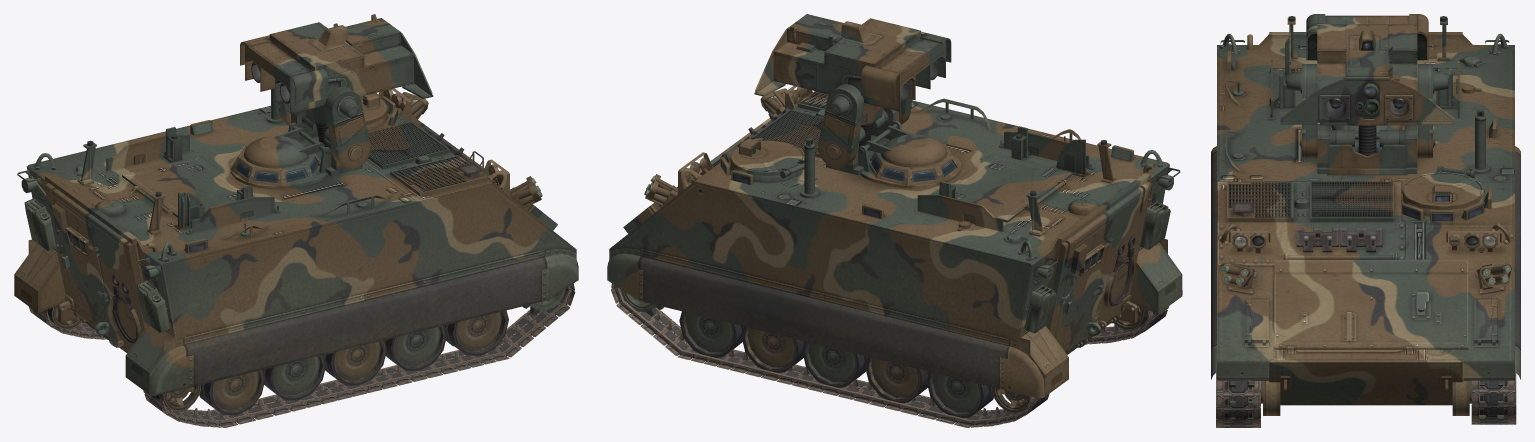
Rendered from m901_itv.glb.
3 views of the same model, side by side, from view 1: azimuth 30°, elevation 25°; view 2: azimuth 150°, elevation 25°; view 3: azimuth 270°, elevation 25° (orthographic). The views are drawn at different scales.
Parts seen in each view (by area): view 1: hull, skirt, mount2, track2, mount, things, extra, hatch4, back mudguard, hatch3, hatch5, object505_m901_hull_0_0 (+21 smaller); view 2: hull, skirt, mount2, track, mount, hatch4, extra, back mudguard, hatch3, things, hatch5, object505_m901_hull_0_0 (+23 smaller); view 3: hull, object07_m901_hull_0_0, mount2, mount, things, skirt, hatch, extra, track2, track, object505_m901_hull_0_0, object05_m901_hull_0_0 (+11 smaller).
Part boxes in pixels (left/top/right/bottom): hull: left=26, top=105, right=576, bottom=352; skirt: left=149, top=254, right=578, bottom=395; mount2: left=240, top=14, right=433, bottom=113; track2: left=143, top=283, right=575, bottom=427; mount: left=230, top=86, right=370, bottom=189; things: left=368, top=88, right=509, bottom=196; extra: left=77, top=127, right=280, bottom=234; hatch4: left=45, top=183, right=148, bottom=351; back mudguard: left=14, top=239, right=177, bottom=394; hatch3: left=122, top=156, right=254, bottom=217; hatch5: left=51, top=201, right=107, bottom=318; object505_m901_hull_0_0: left=34, top=120, right=393, bottom=261; hull: left=609, top=100, right=1169, bottom=354; skirt: left=607, top=254, right=1182, bottom=398; mount2: left=754, top=14, right=951, bottom=111; track: left=611, top=283, right=1049, bottom=427; mount: left=818, top=84, right=961, bottom=188; hatch4: left=1046, top=181, right=1151, bottom=352; extra: left=917, top=126, right=1115, bottom=236; back mudguard: left=1016, top=239, right=1182, bottom=396; hatch3: left=938, top=154, right=1072, bottom=222; things: left=678, top=86, right=829, bottom=194; hatch5: left=1055, top=222, right=1111, bottom=346; object505_m901_hull_0_0: left=861, top=98, right=1162, bottom=260; hull: left=1217, top=32, right=1514, bottom=405; object07_m901_hull_0_0: left=1274, top=259, right=1468, bottom=349; mount2: left=1280, top=14, right=1454, bottom=125; mount: left=1286, top=64, right=1448, bottom=175; things: left=1227, top=182, right=1501, bottom=253; skirt: left=1211, top=146, right=1520, bottom=379; hatch: left=1401, top=166, right=1484, bottom=209; extra: left=1269, top=16, right=1481, bottom=120; track2: left=1216, top=372, right=1260, bottom=427; track: left=1471, top=372, right=1516, bottom=424; object505_m901_hull_0_0: left=1219, top=33, right=1509, bottom=174; object05_m901_hull_0_0: left=1263, top=376, right=1469, bottom=415.
Bounding box in the file's own units: 4.74 × 3.22 × 2.69.
10 materials, 10 textured.
